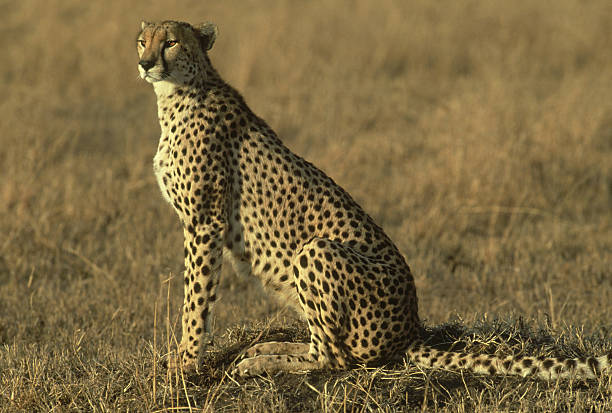cheetah: (129, 13, 227, 91)
